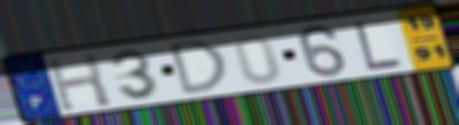0: (231, 32, 283, 86)
3: (109, 47, 158, 102)
6: (296, 23, 349, 80)
D: (167, 37, 232, 98)
H: (43, 51, 115, 113)
L: (351, 18, 407, 72)
